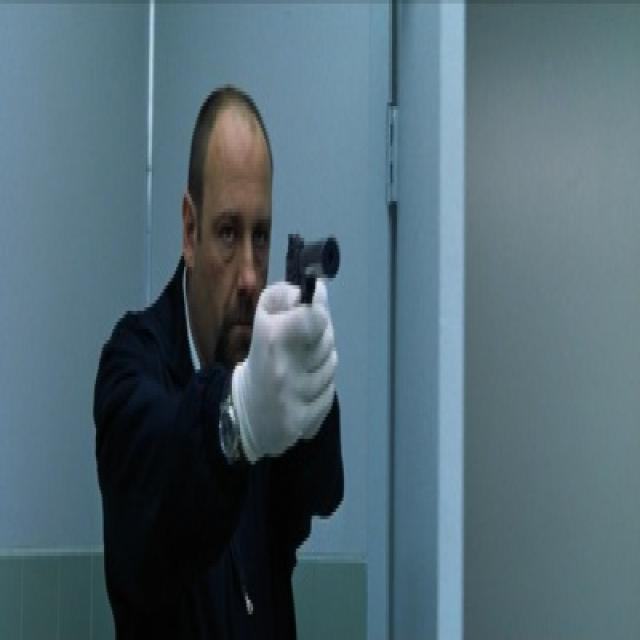weapons: (268, 202, 346, 390)
